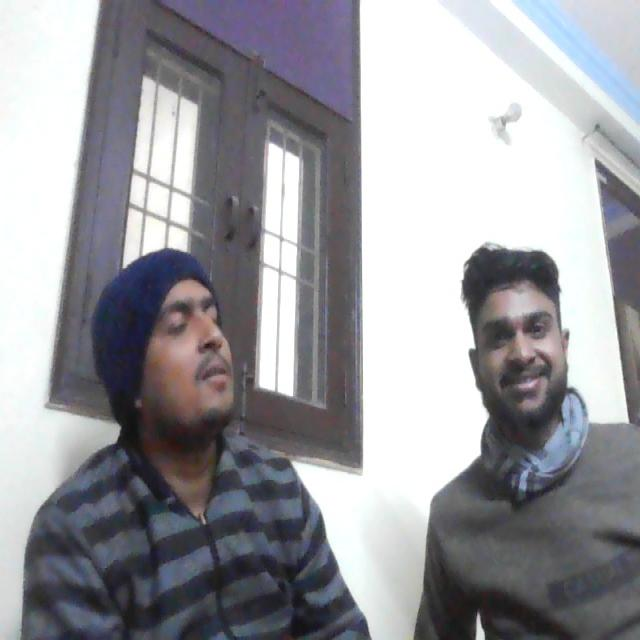real: (125, 216, 247, 447), (468, 238, 570, 430)
